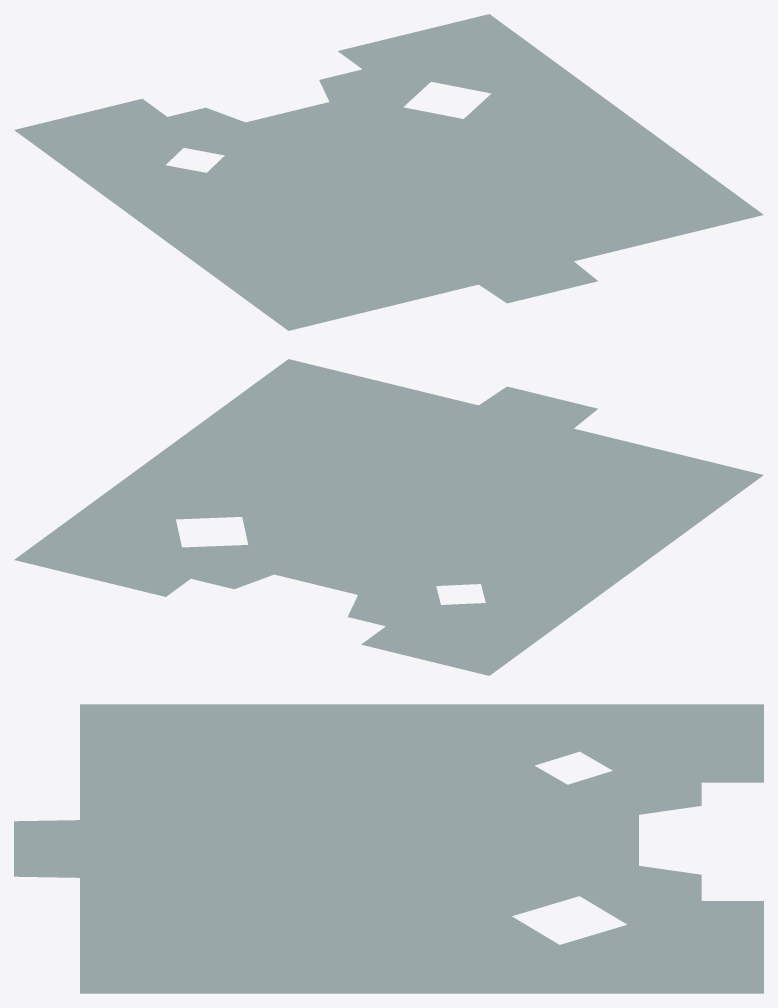
The model's file is Nav.glb.
3 views of the same model, one above another, from view 1: azimuth 30°, elevation 25°; view 2: azimuth 150°, elevation 25°; view 3: azimuth 270°, elevation 25° (orthographic). The views are drawn at different scales.
Visible parts, largest first — view 1: CryoNavandGround; view 2: CryoNavandGround; view 3: CryoNavandGround.
Part boxes in pixels (box(x1,y1,x2,y2)): CryoNavandGround: box(14, 14, 763, 330); CryoNavandGround: box(14, 359, 763, 675); CryoNavandGround: box(14, 704, 763, 993).
Size of the model in its own units: 10 by 0.0371 by 10.96.
1 material, 1 textured.
